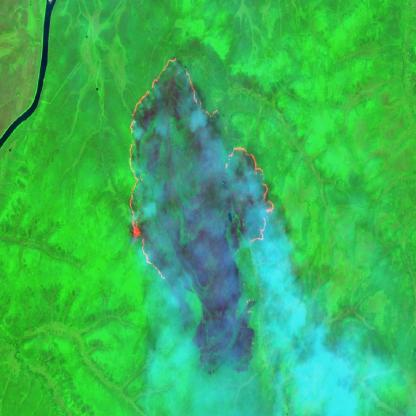fire: (121, 46, 277, 278)
